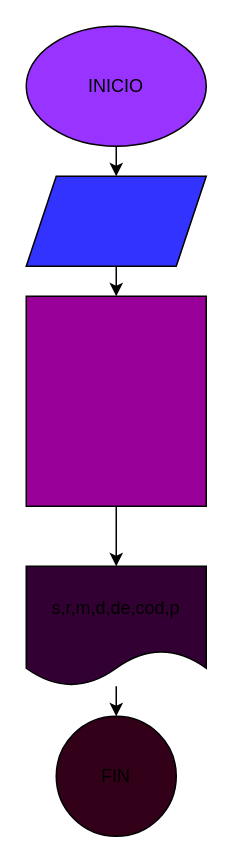
This 233x863 diagram has some shape labels left out. Here are the shapes that lost their labels. From the top down, the centre of each, then its label:
At [115,220]: "x,y".
At [115,400]: "s=x+y r=x-y m=x*y d=x/y de=x//y mod=x%y p=x**y :".
